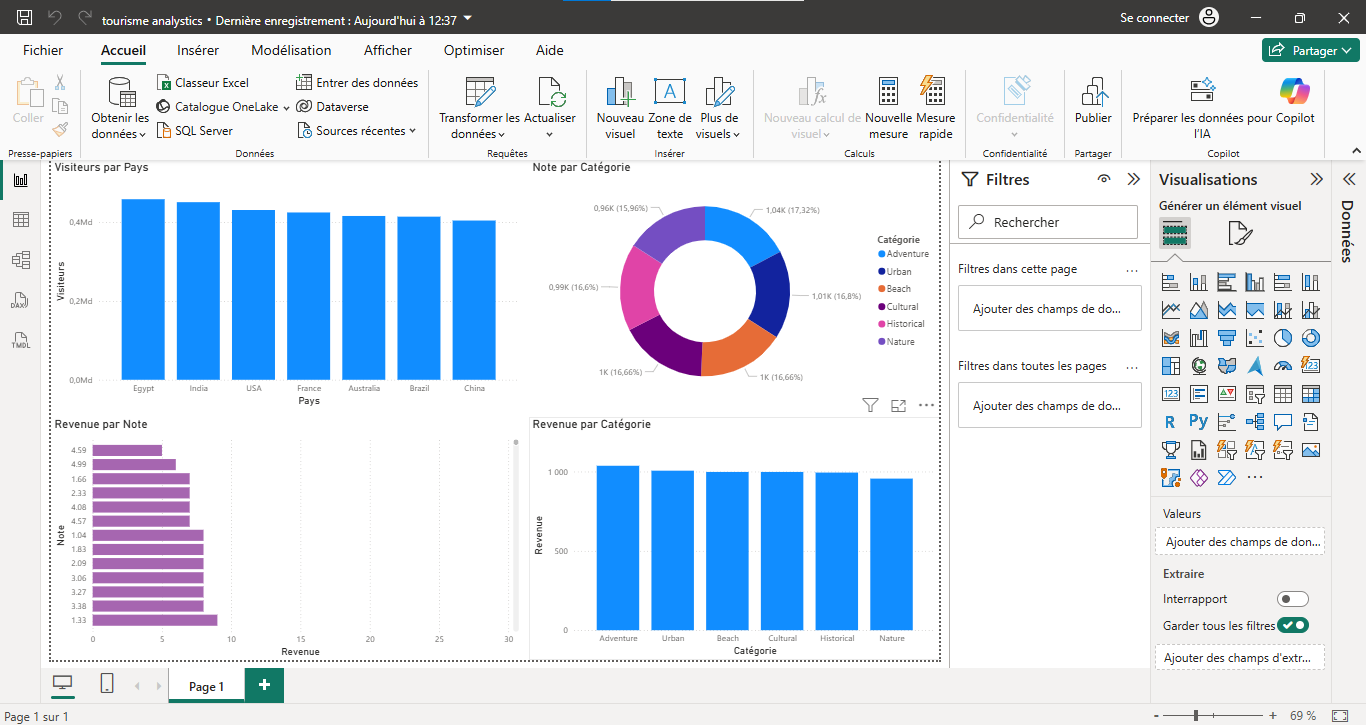

This screenshot's page, from the dashboard's own definition file:
{"tool":"powerbi","page":{"name":"Page 1","canvas":[1280,720],"ordinal":0},"visuals":[{"type":"clusteredColumnChart","fields":{"Category":["tourism_dataset.Country"],"Y":["Sum(tourism_dataset.Visitors)"]},"box":[0,0,678.6,359.5],"z":0},{"type":"donutChart","fields":{"Category":["tourism_dataset.Category"],"Y":["CountNonNull(tourism_dataset.Rating)"]},"box":[689,0,591,359],"z":1000},{"type":"clusteredBarChart","fields":{"Category":["tourism_dataset.Rating"],"Y":["CountNonNull(tourism_dataset.Revenue)"]},"box":[0,369.6,678.6,351.1],"z":2000},{"type":"clusteredColumnChart","fields":{"Category":["tourism_dataset.Category"],"Y":["CountNonNull(tourism_dataset.Revenue)"]},"box":[689,370,591,350],"z":3000}]}

Visuals, with their boxes on the page's 1280x720 design canvas (x1, y1, x2, y2). These are canvas units, not pixel positions in the 1366x725 screenshot, which may show the page scaled, cropped or inside an application window:
clusteredColumnChart - tourism_dataset.Country x Sum(tourism_dataset.Visitors): region(0, 0, 679, 360)
donutChart - tourism_dataset.Category x CountNonNull(tourism_dataset.Rating): region(689, 0, 1280, 359)
clusteredBarChart - tourism_dataset.Rating x CountNonNull(tourism_dataset.Revenue): region(0, 370, 679, 721)
clusteredColumnChart - tourism_dataset.Category x CountNonNull(tourism_dataset.Revenue): region(689, 370, 1280, 720)
